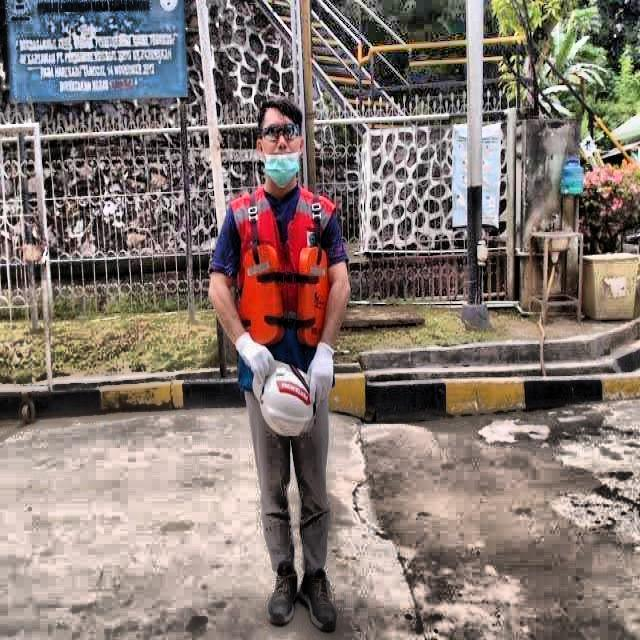safety_helmet: (248, 360, 317, 439)
safety_jacket: (228, 186, 338, 389)
